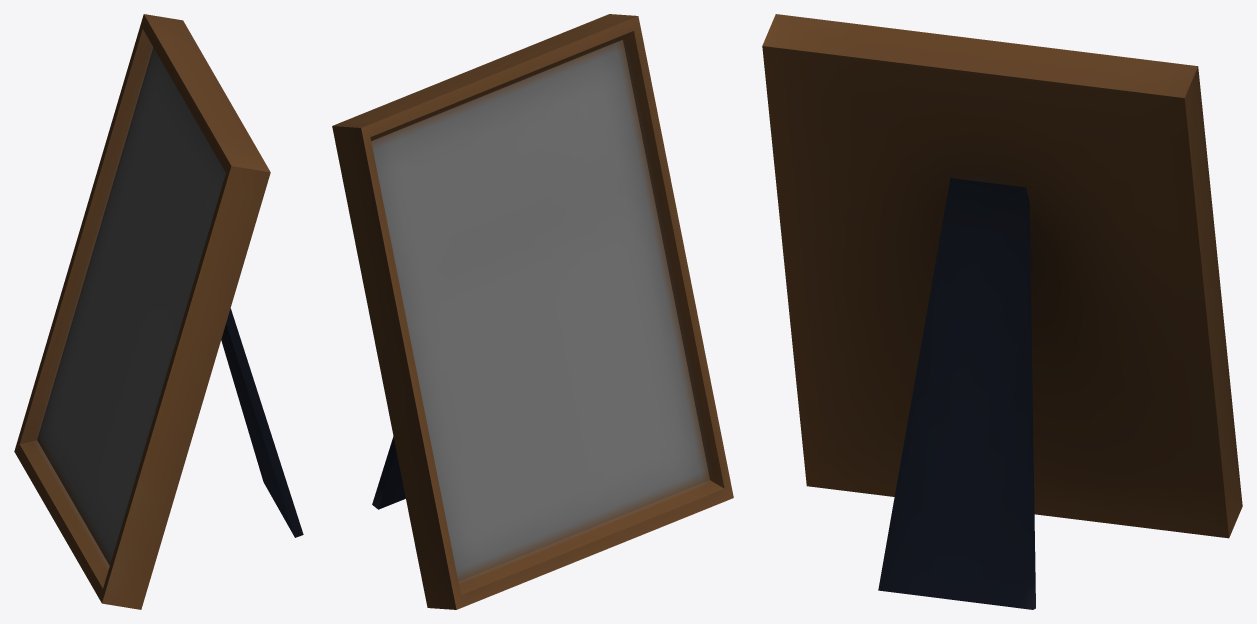
Rendered from pictureFrame.fbx.
3 renders of one model, left to right at view 1: azimuth 30°, elevation 25°; view 2: azimuth 150°, elevation 25°; view 3: azimuth 270°, elevation 25°, orthographic. The views are drawn at different scales.
Parts seen in each view (by area): view 1: unwrapped:pCube20; view 2: unwrapped:pCube20; view 3: unwrapped:pCube20.
Boxes of the visible parts, x1,y1,x2,y2 form: unwrapped:pCube20: (14,14,303,609); unwrapped:pCube20: (332,14,733,609); unwrapped:pCube20: (762,14,1242,609).
Size of the model in its own units: 19.26 by 30.82 by 25.96.
